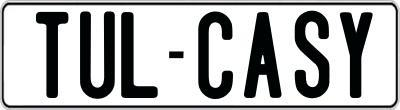A: (241, 12, 281, 98)
C: (197, 12, 238, 105)
L: (118, 11, 160, 100)
S: (292, 10, 332, 101)
T: (34, 10, 72, 96)
U: (77, 11, 117, 101)
Y: (337, 10, 374, 96)
